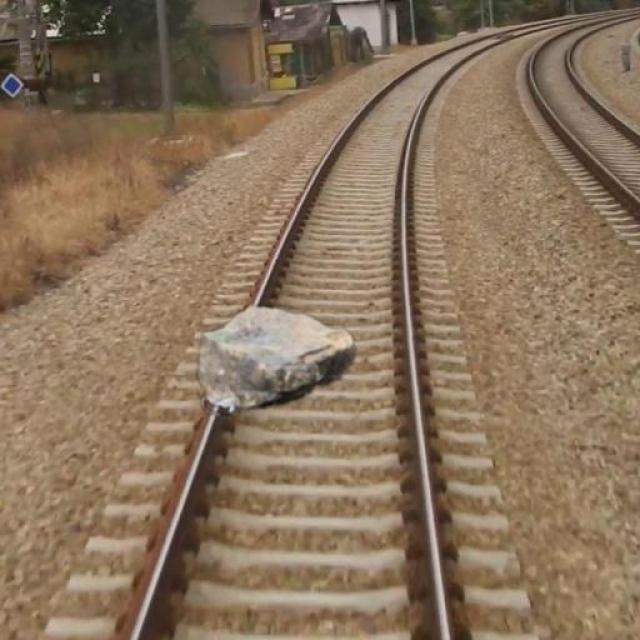Stone: (193, 304, 366, 418)
